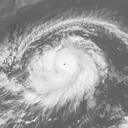cyclone: (26, 35, 109, 102)
